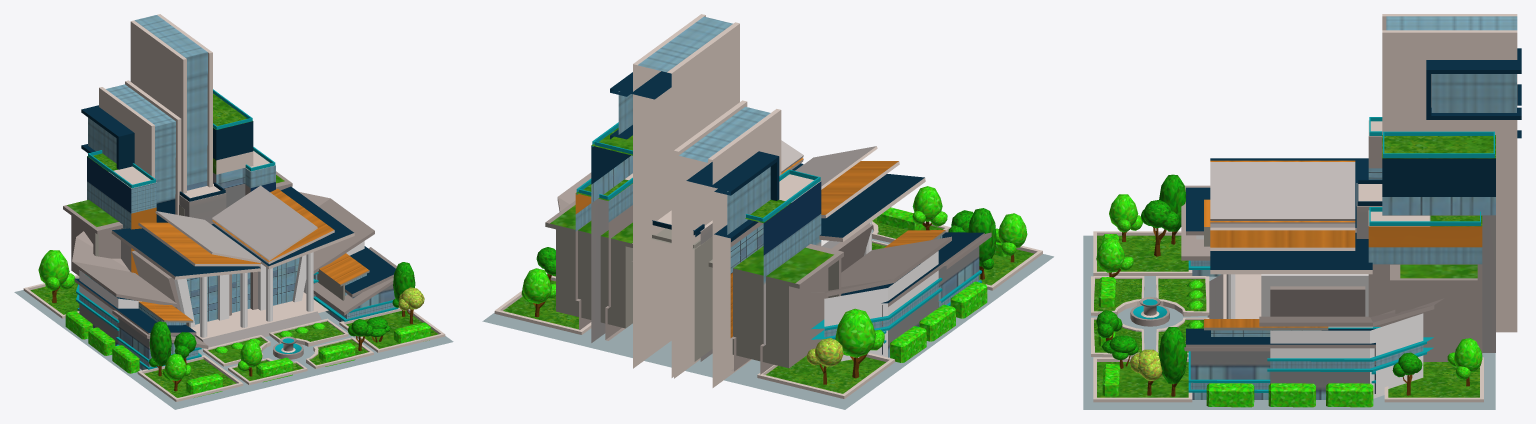
The model's file is school_LV3.fbx.
3 renders of one model, left to right at view 1: azimuth 30°, elevation 25°; view 2: azimuth 150°, elevation 25°; view 3: azimuth 270°, elevation 25°, orthographic. The views are drawn at different scales.
Parts seen in each view (by area): view 1: school 3; view 2: school 3; view 3: school 3.
Boxes of the visible parts, left/top/right/bottom form: school 3: left=14, top=14, right=453, bottom=409; school 3: left=482, top=14, right=1053, bottom=409; school 3: left=1083, top=14, right=1521, bottom=409.
Size of the model in its own units: 120 by 97.56 by 128.
